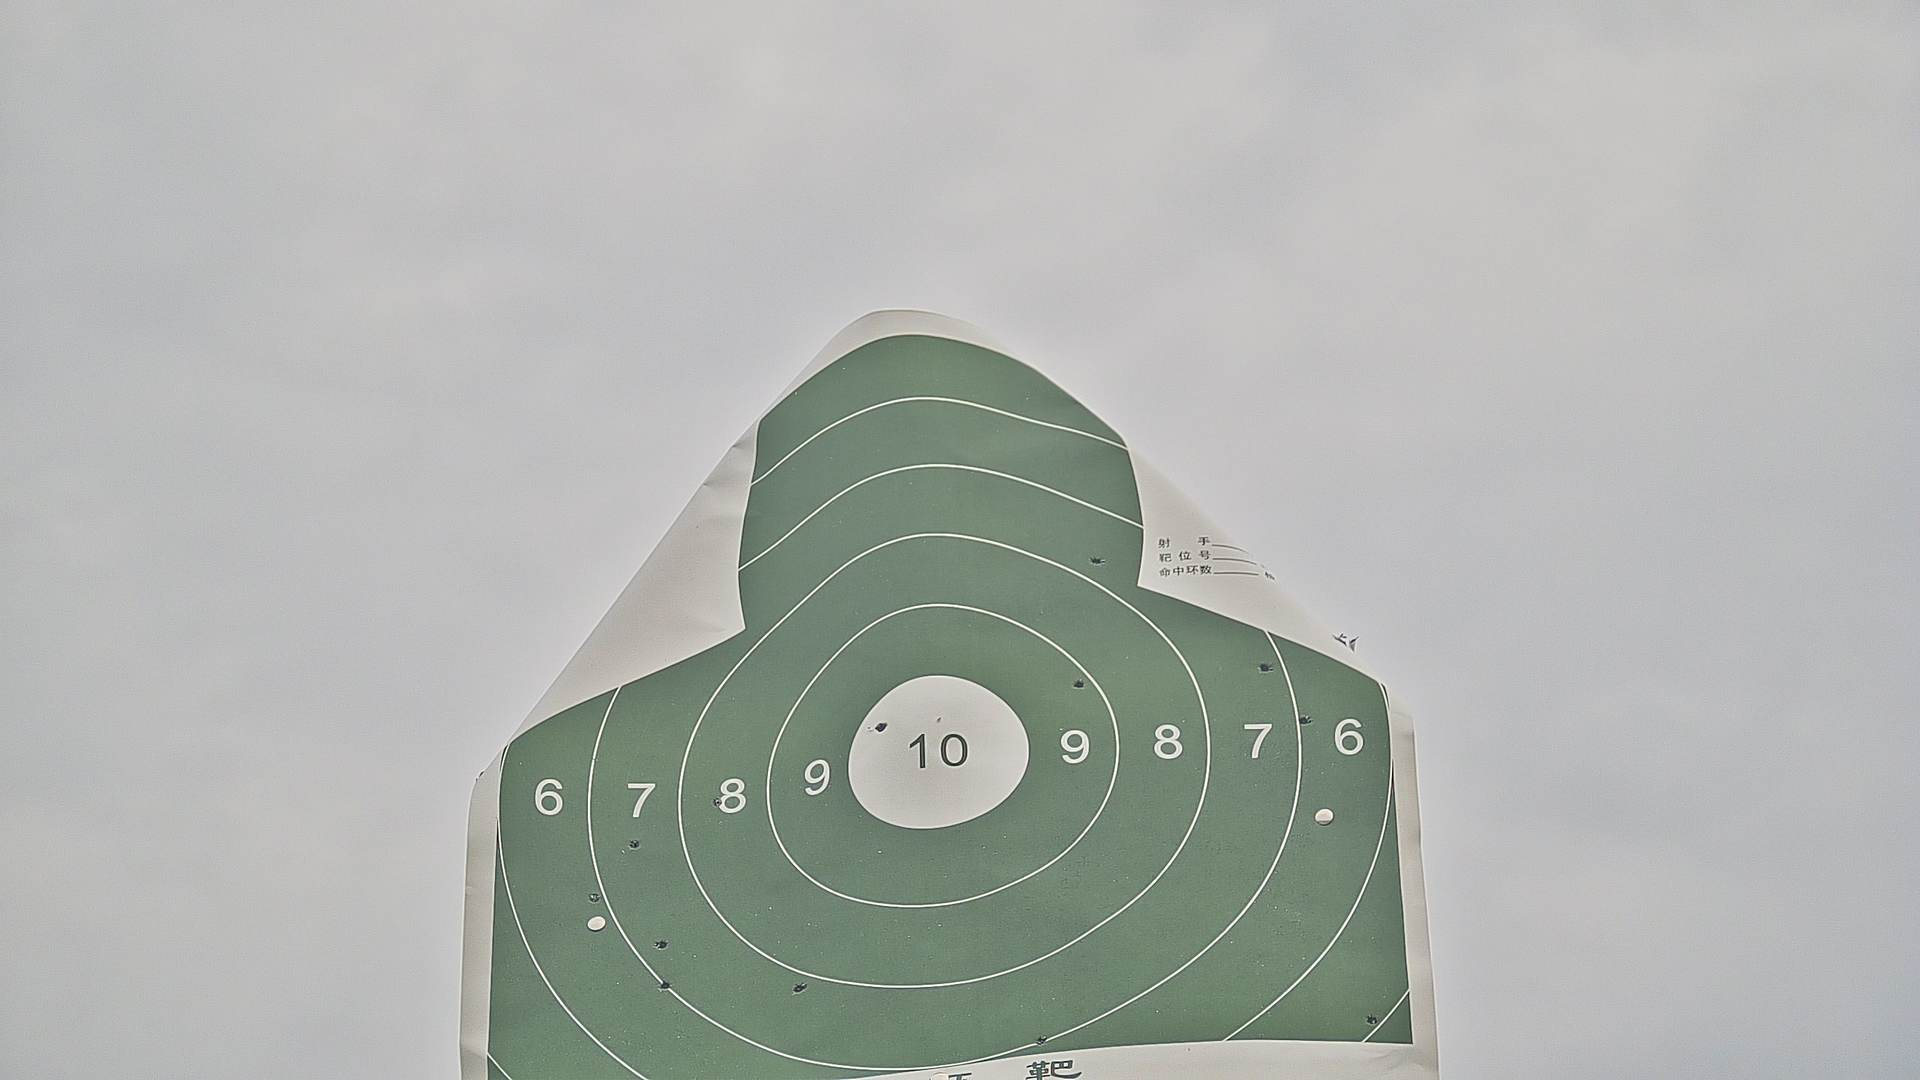hole: (1088, 554, 1105, 567), (1298, 712, 1312, 727), (793, 980, 807, 994), (587, 891, 601, 905), (655, 980, 673, 990), (654, 938, 670, 948), (628, 837, 641, 849), (1364, 1014, 1379, 1023), (876, 723, 889, 733), (1035, 1035, 1048, 1044), (1258, 662, 1269, 673), (712, 796, 724, 806), (1073, 679, 1087, 687)
kernel: (930, 748, 934, 752)
target: (488, 336, 1418, 1080)
ten: (843, 676, 1030, 831)
